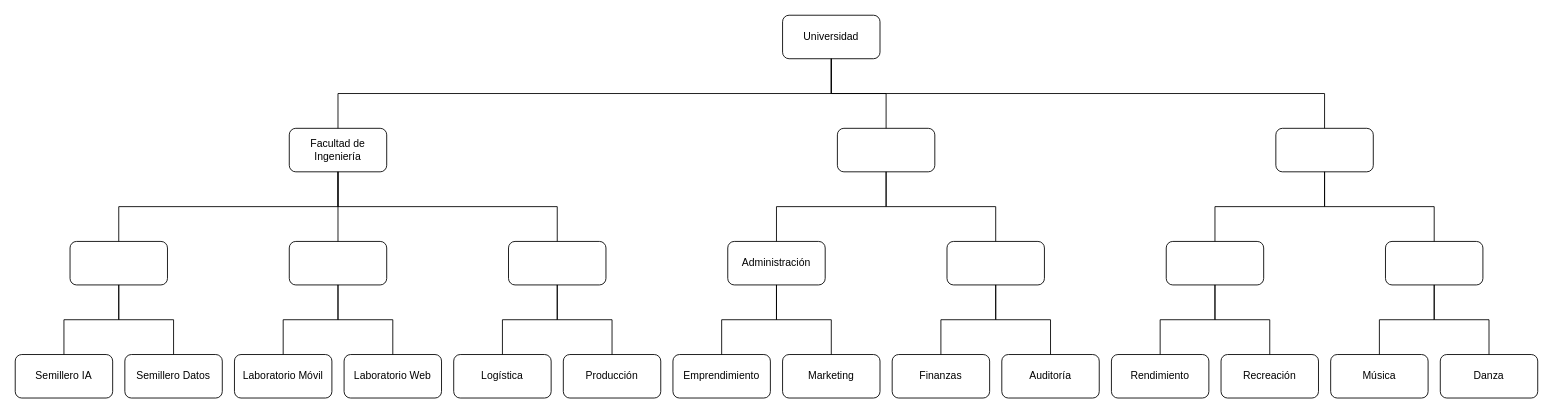
This 1553x413 diagram has some shape labels left out. The box of each missing label's shape, as (x1, y1, x2, y2) in pixels:
Bienestar Universitario: (1275, 127, 1373, 172)
Ciencias Administrativas: (837, 127, 935, 172)
Contabilidad: (946, 241, 1044, 285)
Cultura: (1385, 241, 1483, 285)
Deportes: (1165, 241, 1264, 285)
Ingeniería de Sistemas: (69, 241, 167, 285)
Ingeniería de Software: (288, 241, 387, 285)
Ingeniería Industrial: (508, 241, 606, 285)
